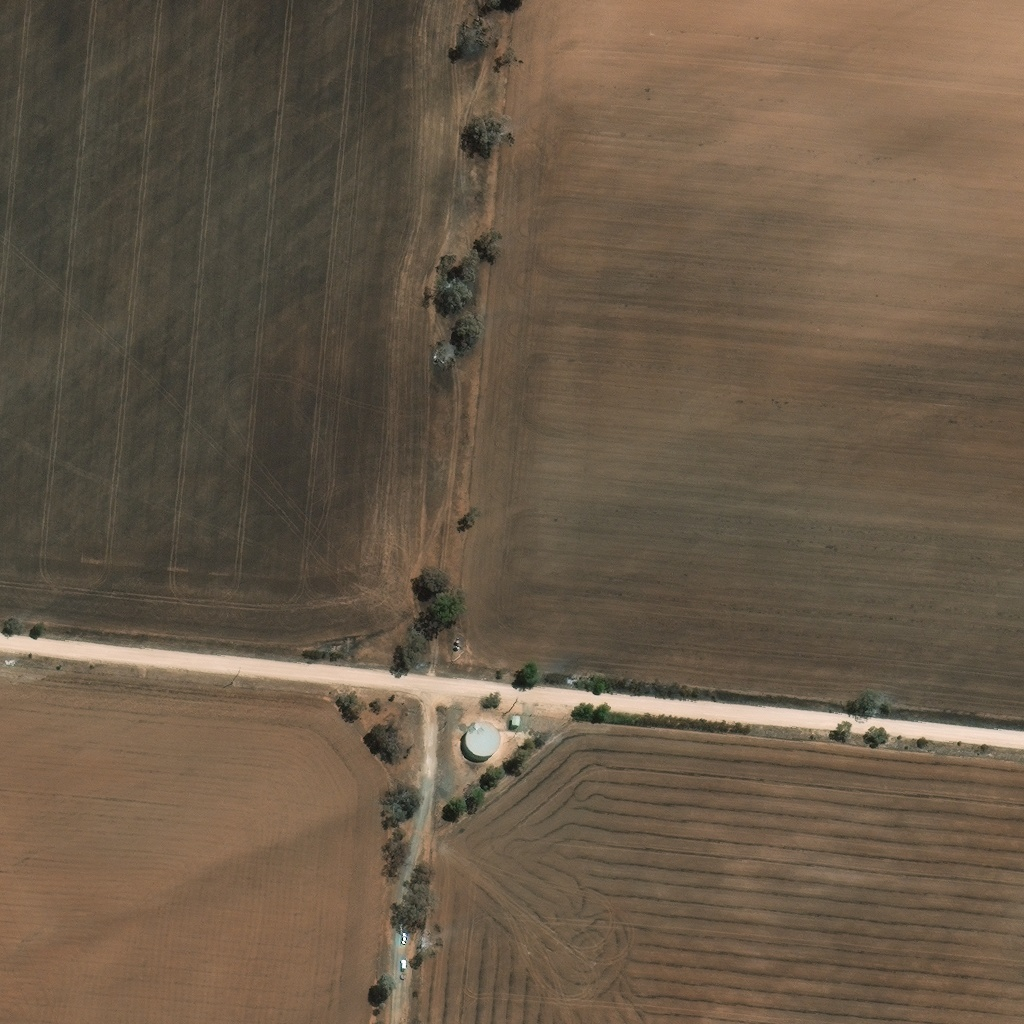1 minor-damage: (462, 721, 500, 759)
